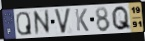8: (94, 6, 111, 32)
K: (74, 8, 90, 32)
N: (32, 9, 52, 37)
Q: (111, 5, 133, 31), (16, 11, 34, 36)
V: (53, 7, 72, 35)
